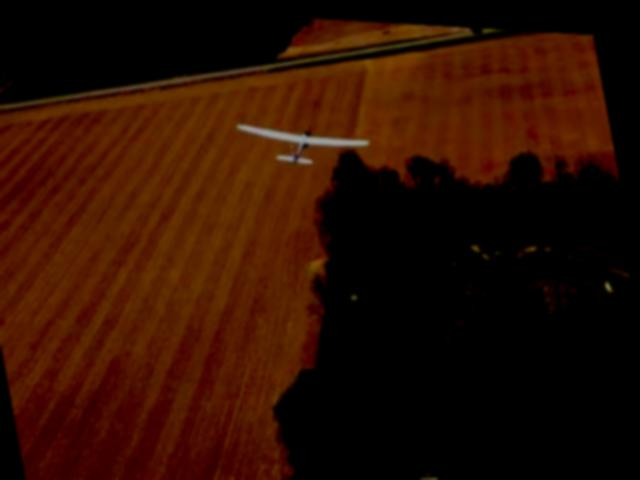iha: (237, 89, 374, 177)
